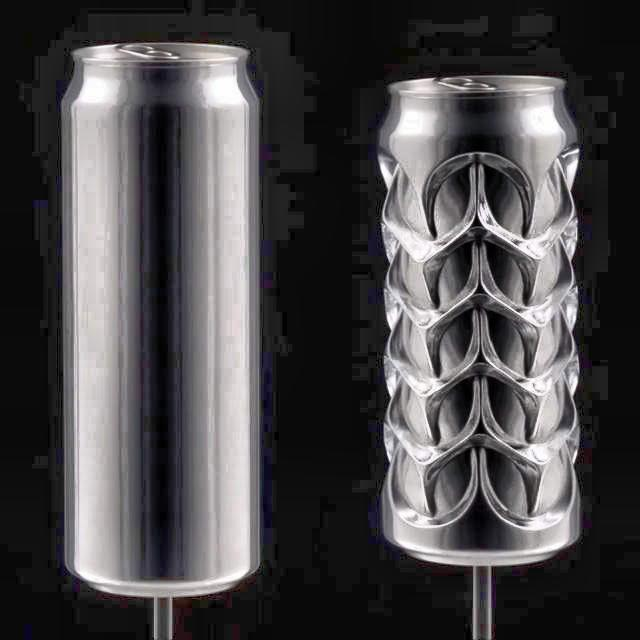can: (45, 31, 271, 607), (372, 62, 588, 577)
